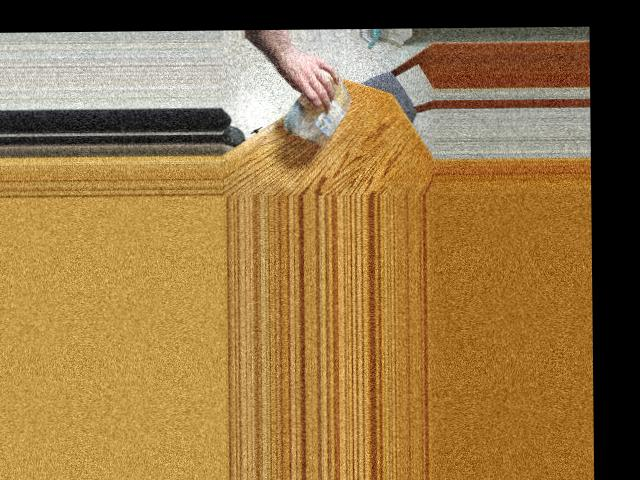cheese: (287, 63, 353, 143)
